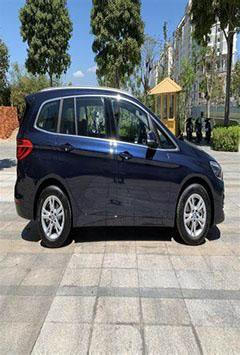car: (7, 47, 234, 270)
